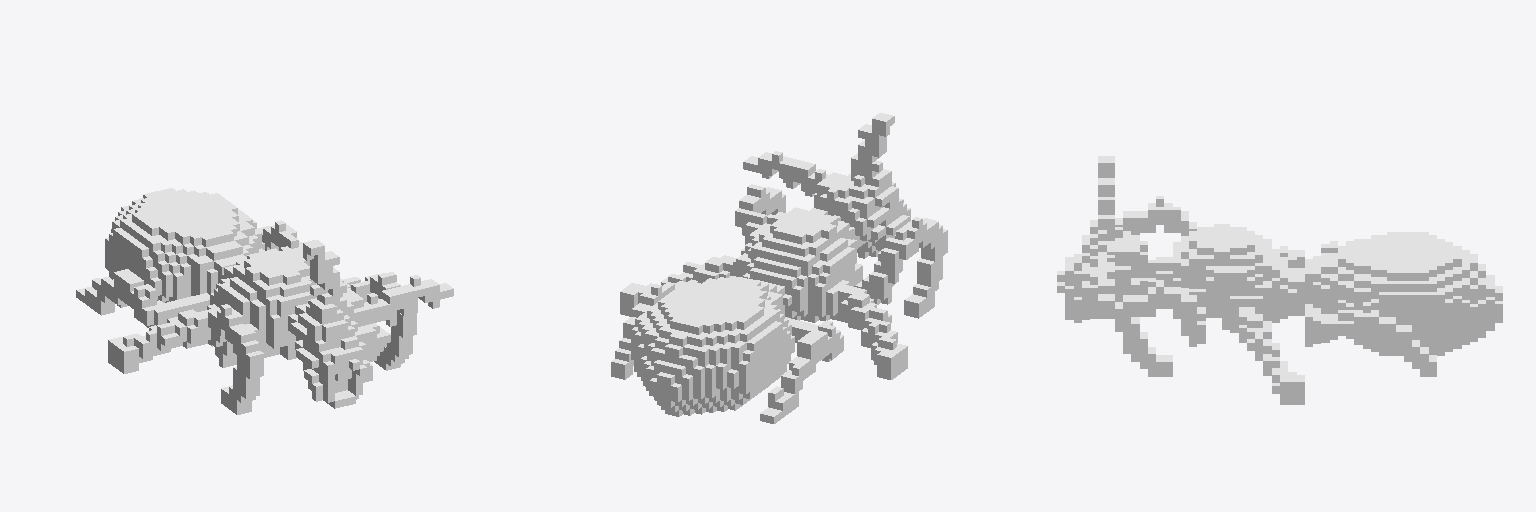
The model's file is ant_attack_v1-3.obj.
3 renders of one model, left to right at view 1: azimuth 30°, elevation 25°; view 2: azimuth 150°, elevation 25°; view 3: azimuth 270°, elevation 25°, orthographic.
Visible parts, largest first — view 1: object 1; view 2: object 1; view 3: object 1.
Part boxes in pixels (x1,y1,x2,y2): object 1: (76, 188, 453, 414); object 1: (611, 113, 947, 423); object 1: (1057, 156, 1502, 404).
Bounding box in the file's own units: 3.8 × 2.2 × 5.4.